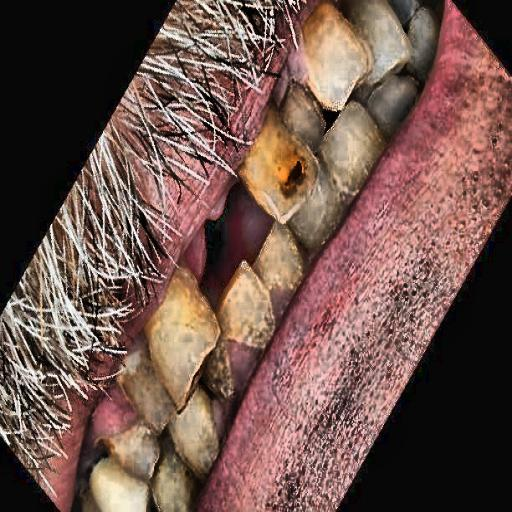Calculus: (233, 46, 410, 228), (131, 259, 266, 459)
